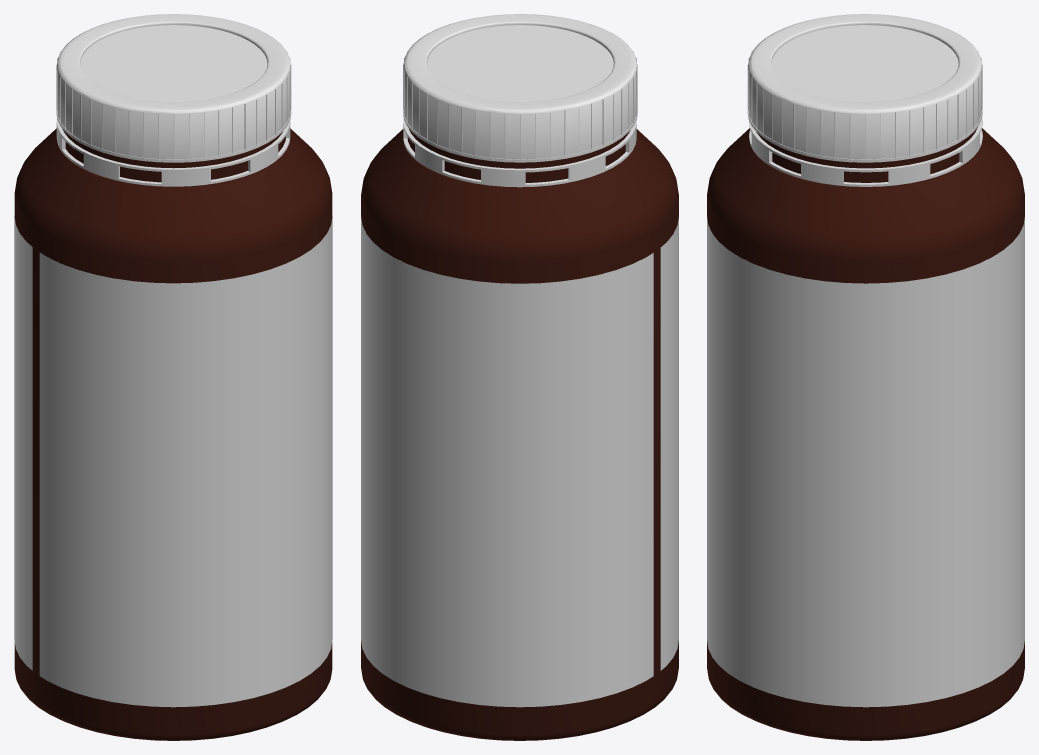
File: bottle-hfc.glb
The picture shows the model from 3 angles, left to right: view 1: azimuth 30°, elevation 25°; view 2: azimuth 150°, elevation 25°; view 3: azimuth 270°, elevation 25°; orthographic projection.
Visible parts, largest first — view 1: paper, bottle-hfc, lid, lid2; view 2: paper, bottle-hfc, lid, lid2; view 3: paper, bottle-hfc, lid, lid2.
Part boxes in pixels (x1=…): paper: x1=14, y1=216, x2=332, y2=707; bottle-hfc: x1=14, y1=128, x2=332, y2=740; lid: x1=56, y1=14, x2=291, y2=162; lid2: x1=56, y1=118, x2=290, y2=186; paper: x1=361, y1=217, x2=678, y2=707; bottle-hfc: x1=361, y1=129, x2=678, y2=740; lid: x1=403, y1=14, x2=637, y2=162; lid2: x1=403, y1=119, x2=636, y2=187; paper: x1=707, y1=217, x2=1024, y2=707; bottle-hfc: x1=707, y1=127, x2=1024, y2=740; lid: x1=747, y1=14, x2=982, y2=162; lid2: x1=749, y1=116, x2=982, y2=186.
Size of the model in its own units: 0.068 by 0.1452 by 0.068.
